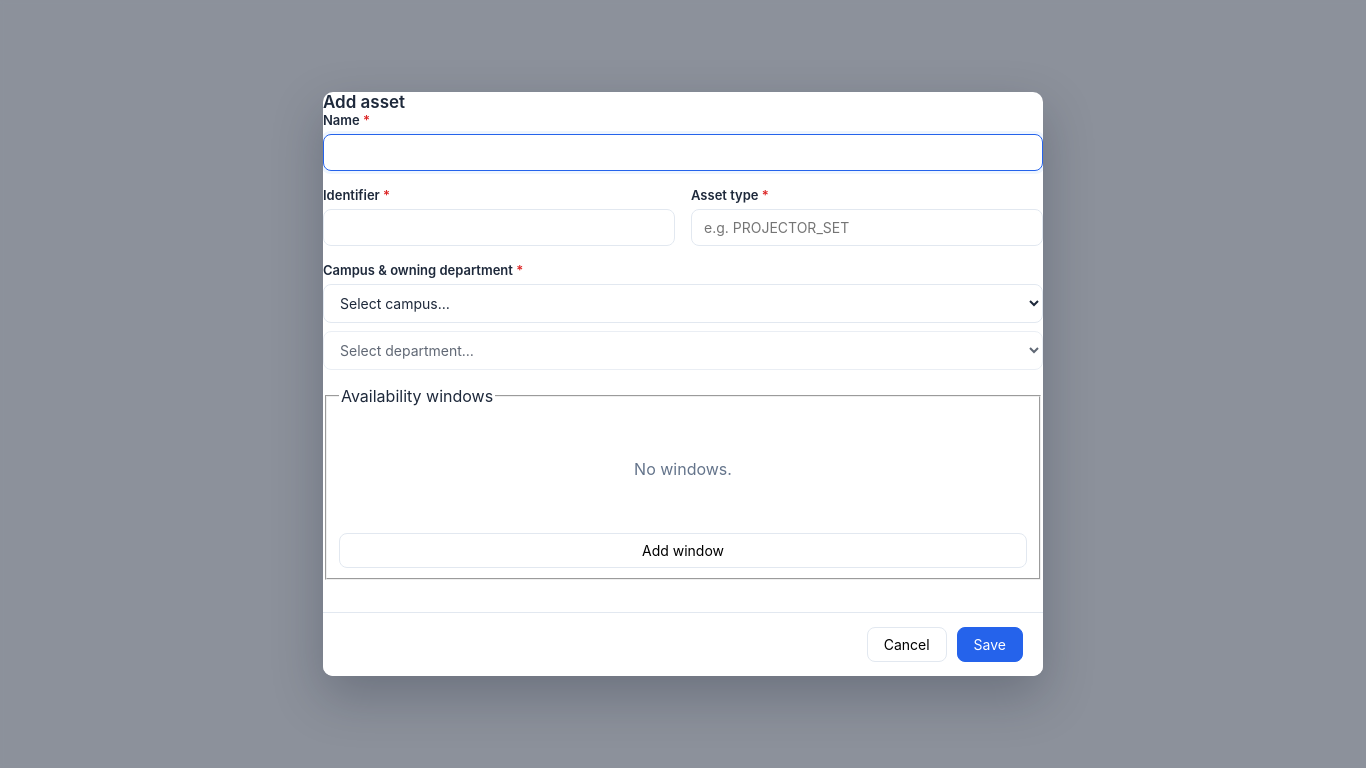
Test case: AssetFormModal › create mode › validates required fields on submit
The image size is (1366, 768).
Click the button "Save". click: x=990, y=645
box: [957,627,1023,662]
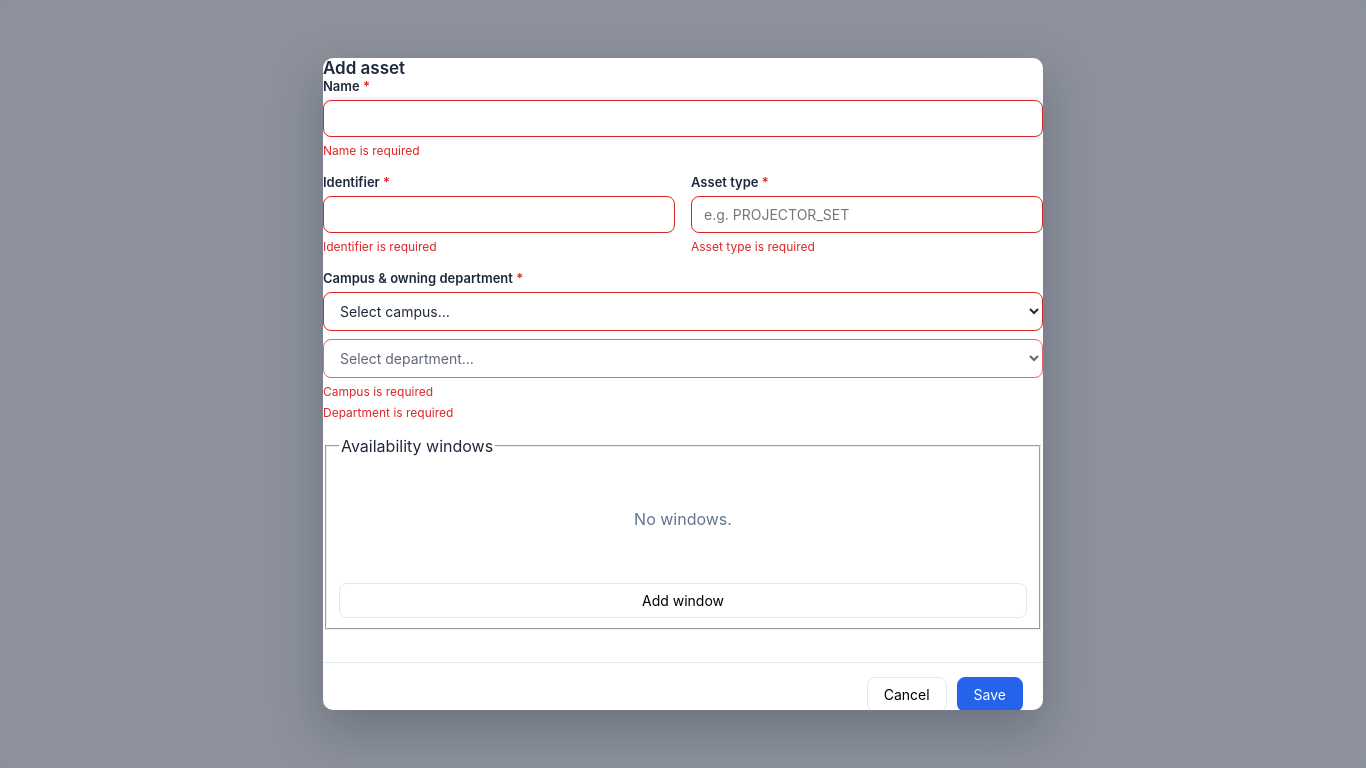
Result: the text "Name is required" is shown at [323,143,420,158]
Result: the text "Identifier is required" is shown at [323,239,437,254]
Result: the text "Asset type is required" is shown at [691,239,815,254]
